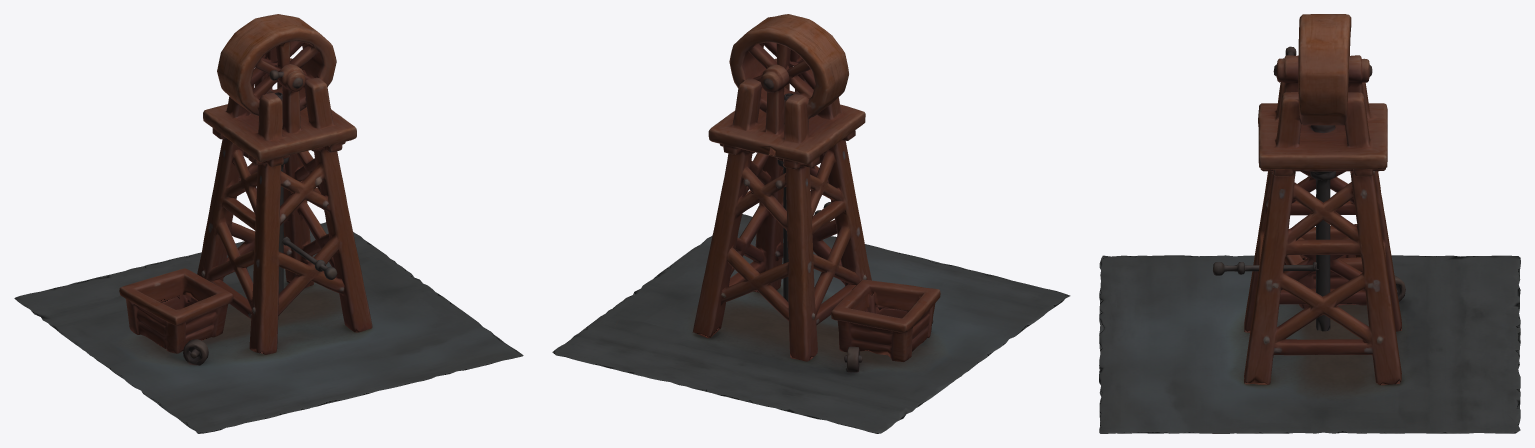
The model's file is mine_lift_t1.glb.
The picture shows the model from 3 angles, left to right: view 1: azimuth 30°, elevation 25°; view 2: azimuth 150°, elevation 25°; view 3: azimuth 270°, elevation 25°; orthographic projection. The views are drawn at different scales.
Parts seen in each view (by area): view 1: geometry_0; view 2: geometry_0; view 3: geometry_0.
Boxes of the visible parts, x1,y1,x2,y2 form: geometry_0: [14, 14, 523, 433]; geometry_0: [552, 14, 1070, 433]; geometry_0: [1099, 14, 1520, 433].
Bounding box in the file's own units: 1 × 0.8707 × 1.
Materials: 1 (1 with a texture image).
